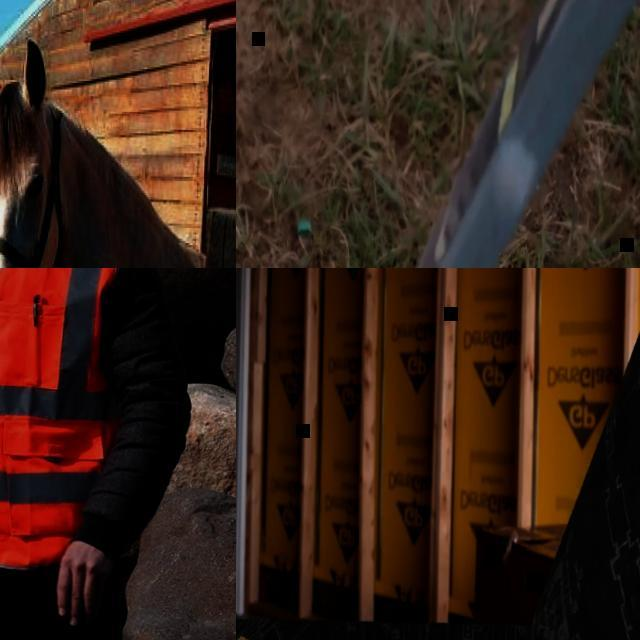vest: (0, 268, 154, 566)
